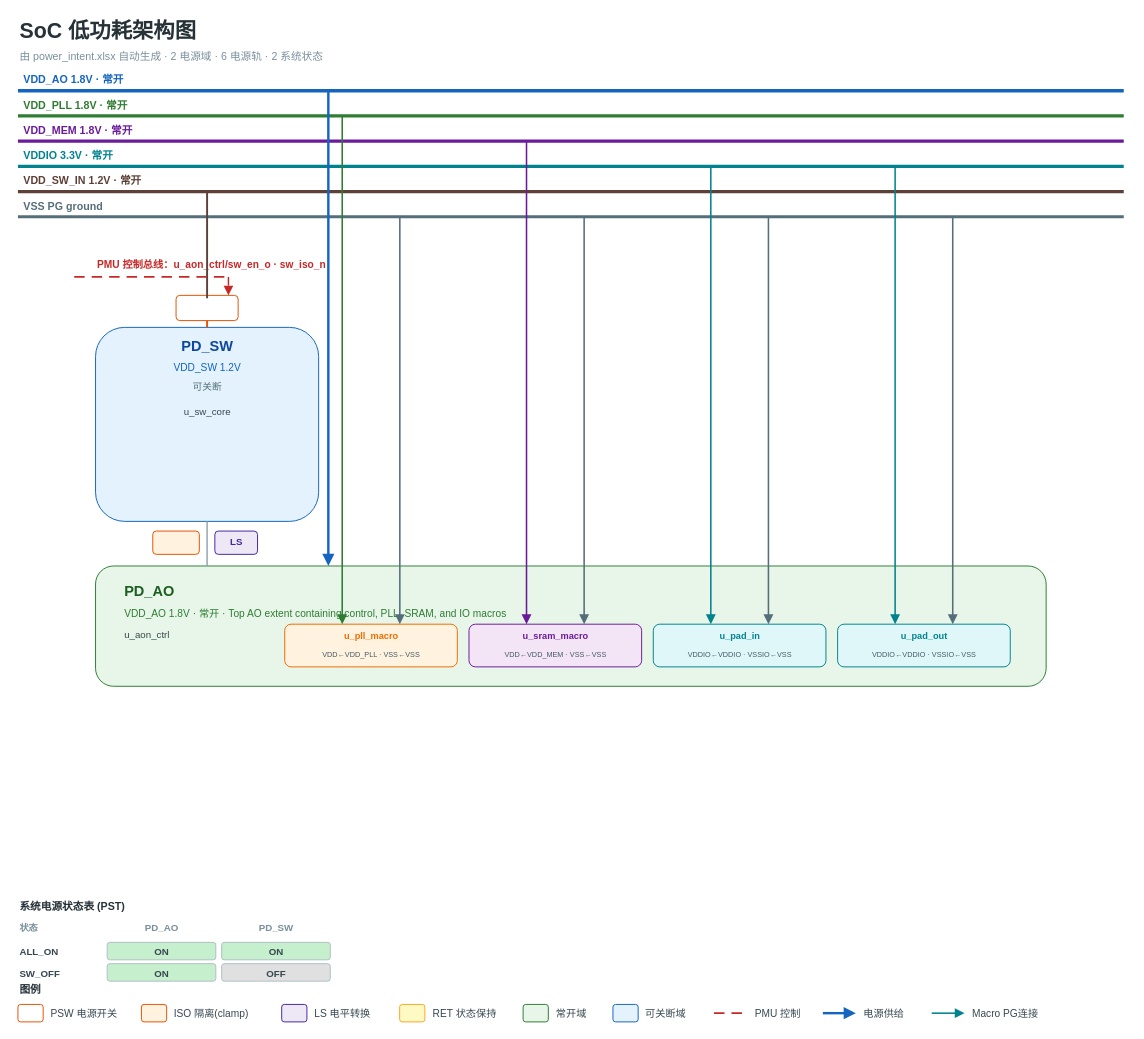
Some shapes in this 1144 by 1039 pixel diagram are drawn without their labels. The shapes that lost their labels are listed below. From the top down, each one's box as (x1, y1, x2, y2) in pixels, then its label:
(175, 294, 238, 321): PSW
(152, 530, 199, 554): ISO·0
